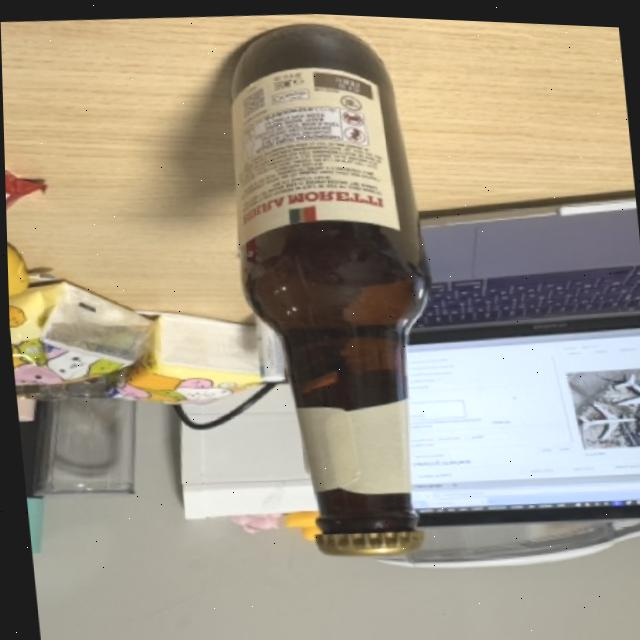beer: (201, 7, 462, 575)
